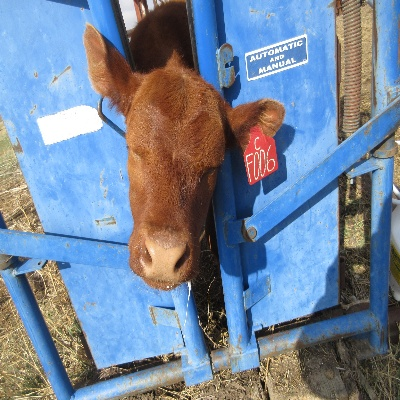fidget_spinner: (137, 237, 190, 278)
